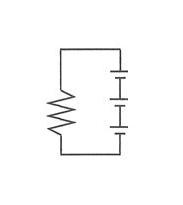resistor: (38, 79, 81, 142)
